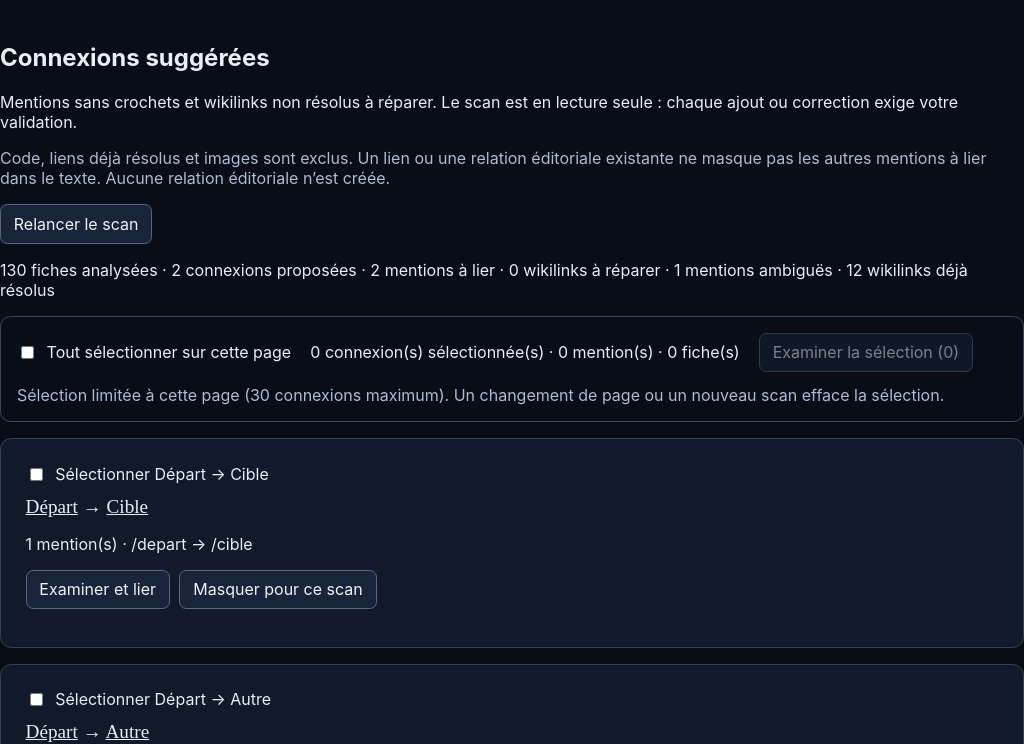
Test: scan des connexions › selects several connections, previews them together and submits one confirmed request despite double clicks
Expected: the text "130 fiches analysées" is shown, x1=0 y1=260 x2=1023 y2=300
Expected: the button "Examiner la sélection (0)" is disabled, x1=759 y1=333 x2=973 y2=372
Click the checkbox labelled "Tout sélectionner sur cette page". click: (28, 353)
box: x1=21 y1=346 x2=34 y2=359
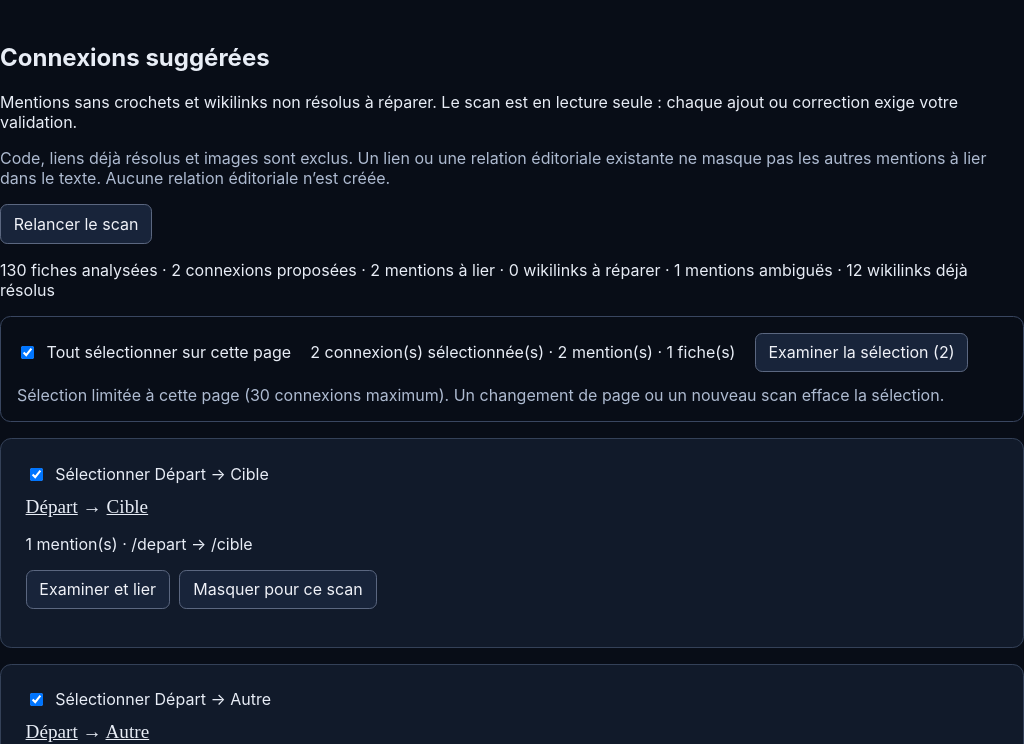
Click the button "Examiner la sélection (2)". click: (861, 352)
box: x1=755 y1=333 x2=968 y2=372
(page scrolled)
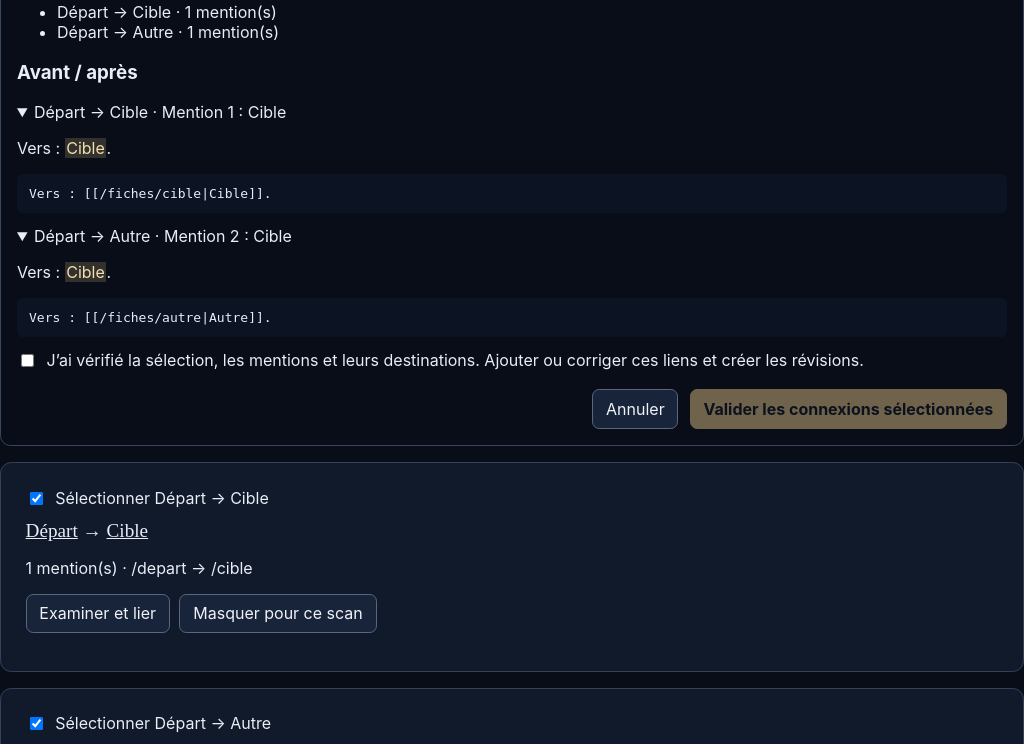
Expected: the text "[ [/fiches/autre|Autre]]" is shown, x1=84 y1=310 x2=264 y2=325
Expected: the button "Valider les connexions sélectionnées" is disabled, x1=690 y1=389 x2=1007 y2=429
Click the checkbox labelled "J’ai vérifié". click: (28, 361)
box: x1=21 y1=354 x2=34 y2=367
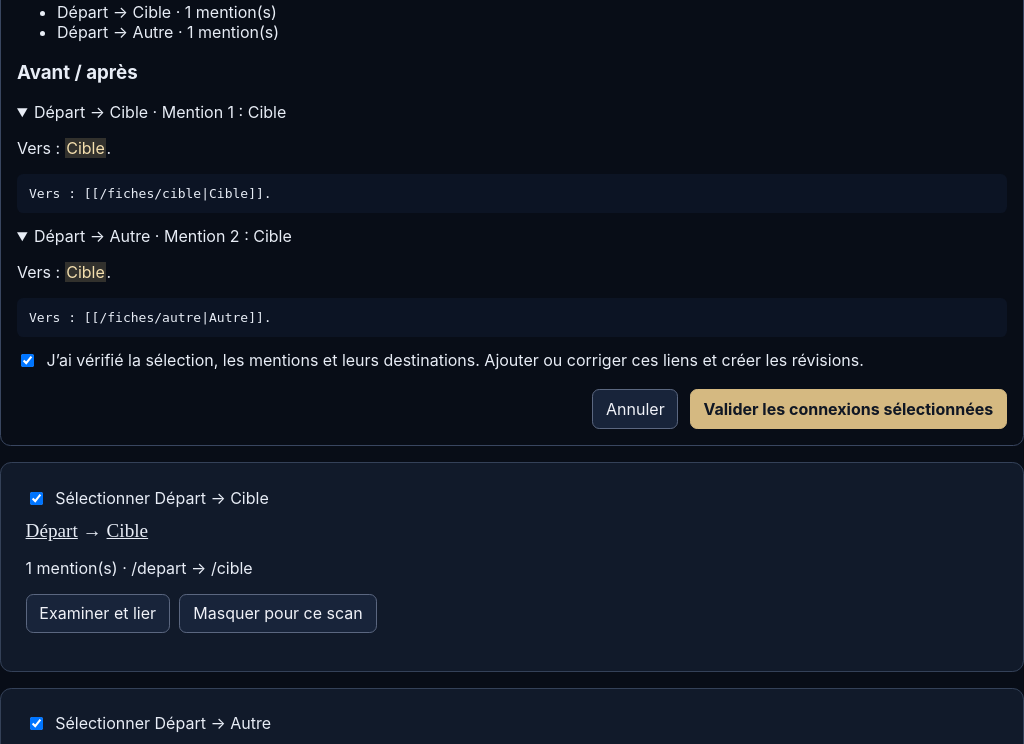
Click the button "Valider les connexions sélectionnées". click: (848, 409)
box: x1=690 y1=389 x2=1007 y2=429
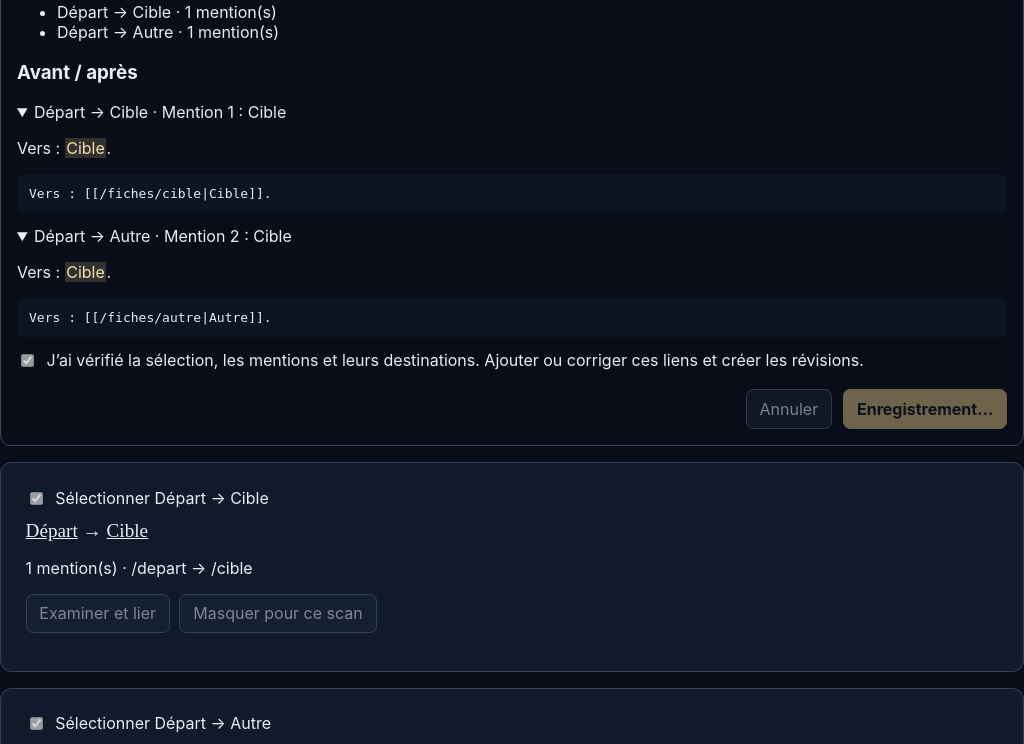
Click the button named "Valider les connexions sélectionnées". click: (925, 409)
box: x1=843 y1=389 x2=1007 y2=429
(page scrolled)
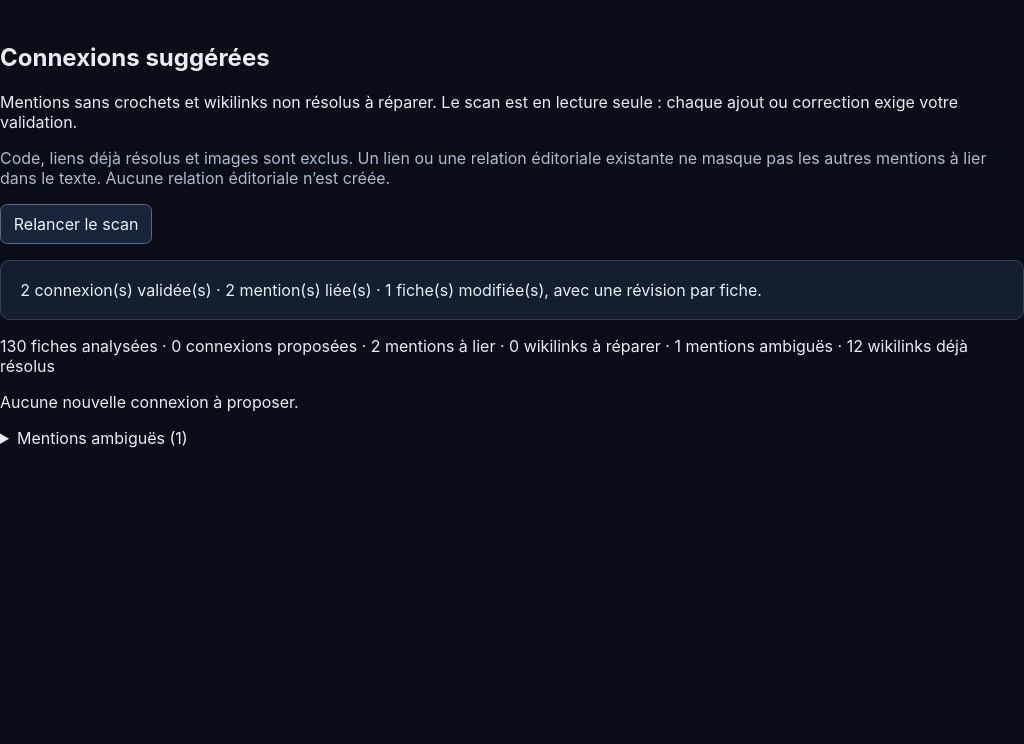
Expected: the text "2 connexion(s) validée(s)" is shown, x1=20 y1=280 x2=762 y2=300
